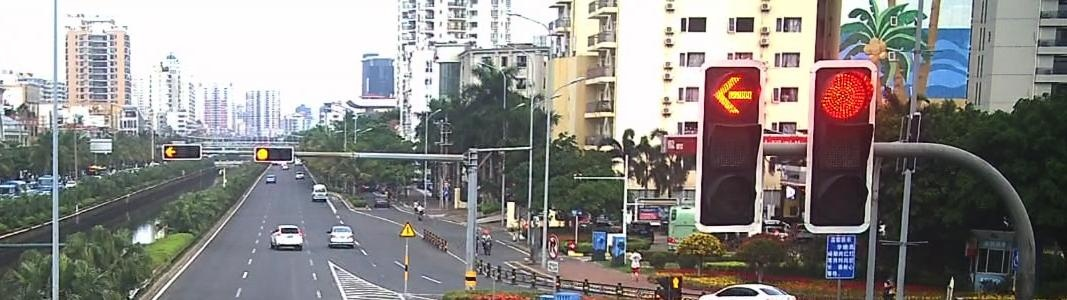red: (818, 67, 876, 121), (251, 146, 273, 162)
redleft: (710, 70, 758, 118), (162, 145, 176, 158)
redpeople: (668, 274, 685, 291)
